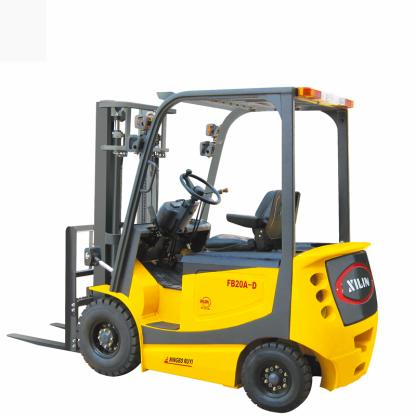forklift: (5, 84, 379, 414)
